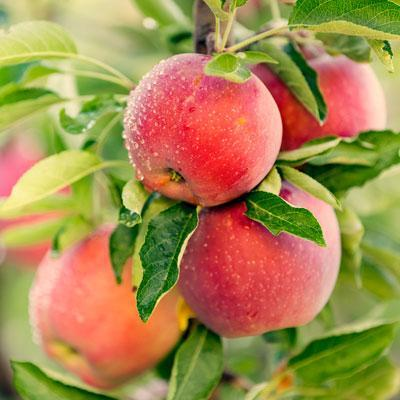apple: (29, 218, 190, 389), (124, 52, 286, 206), (181, 202, 342, 344), (249, 46, 385, 137)
